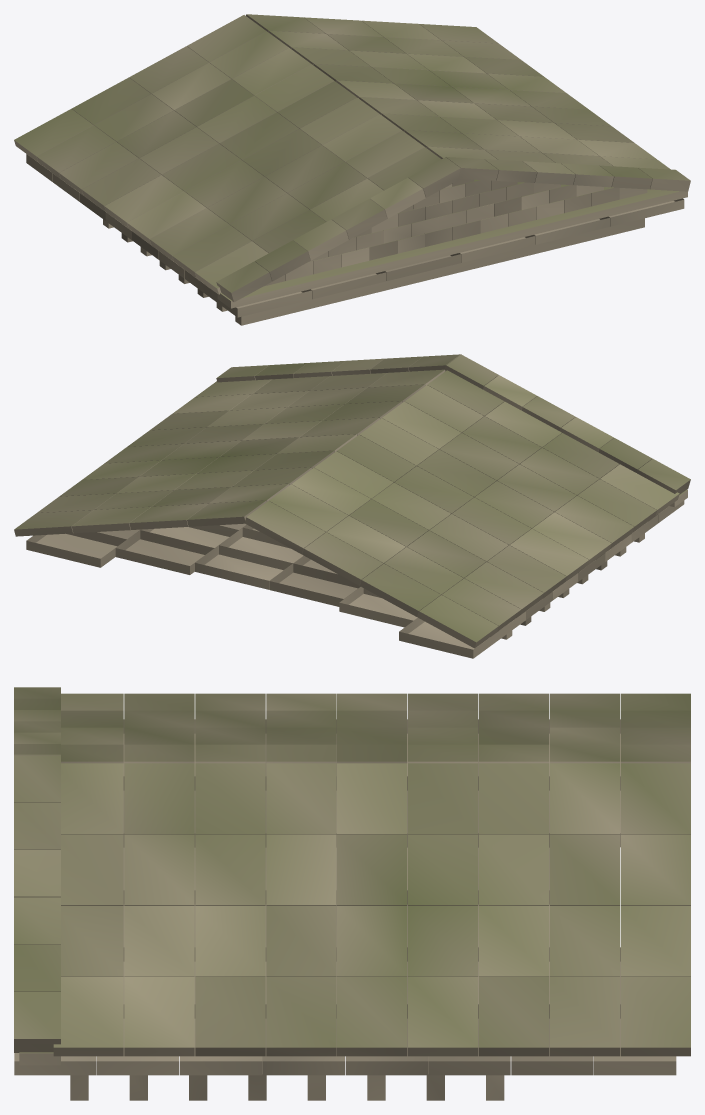
The model's file is dome_porch_roof_mid.glb.
3 views of the same model, one above another, from view 1: azimuth 30°, elevation 25°; view 2: azimuth 150°, elevation 25°; view 3: azimuth 270°, elevation 25° (orthographic). The views are drawn at different scales.
Parts seen in each view (by area): view 1: dome_porch_roof_mid; view 2: dome_porch_roof_mid; view 3: dome_porch_roof_mid.
Part boxes in pixels (box(x1,y1,x2,y2)): dome_porch_roof_mid: box(14, 14, 690, 325); dome_porch_roof_mid: box(14, 354, 690, 658); dome_porch_roof_mid: box(14, 687, 690, 1100).
Size of the model in its own units: 64.02 by 16.12 by 51.78.
